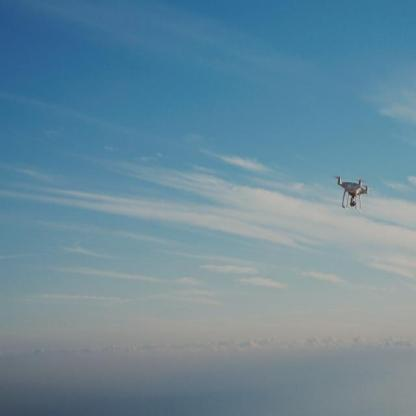drone: (333, 168, 370, 214)
